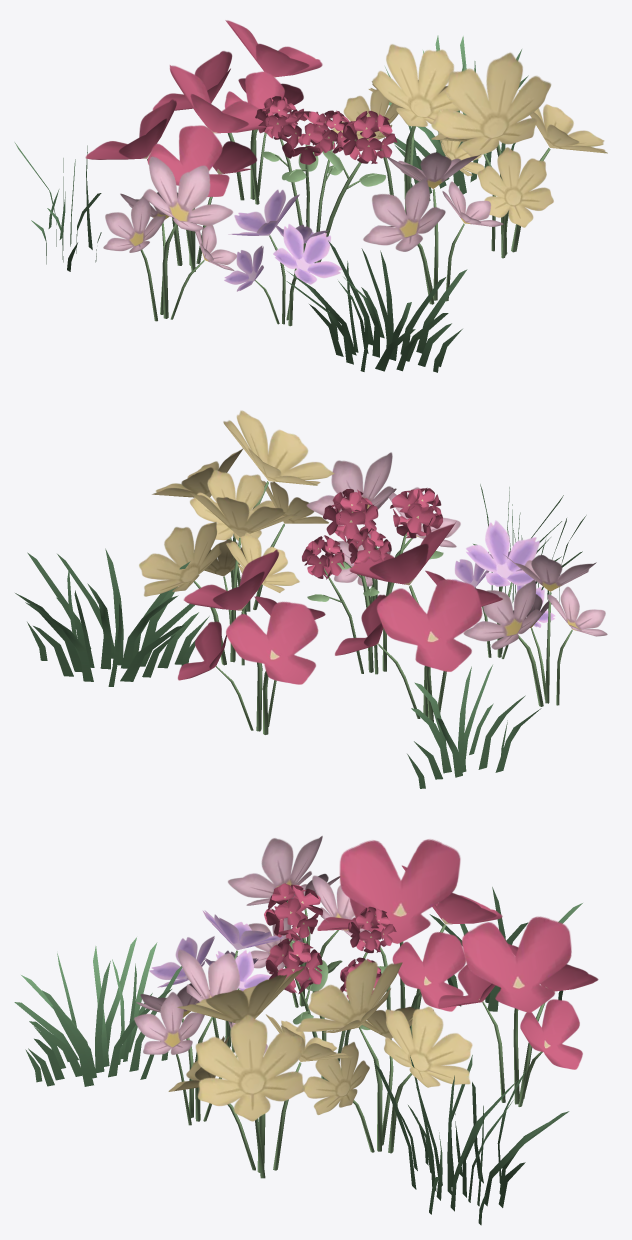
The model's file is qn_flowerpatch.glb.
The picture shows the model from 3 angles, top to bottom: view 1: azimuth 30°, elevation 25°; view 2: azimuth 150°, elevation 25°; view 3: azimuth 270°, elevation 25°; orthographic projection. The views are drawn at different scales.
Parts seen in each view (by area): view 1: Flower_1_Clump.001; view 2: Flower_1_Clump.001; view 3: Flower_1_Clump.001.
Part boxes in pixels (box(x1,y1,x2,y2)): Flower_1_Clump.001: box(14, 20, 607, 372); Flower_1_Clump.001: box(15, 410, 607, 788); Flower_1_Clump.001: box(14, 836, 598, 1225).
Bounding box in the file's own units: 1.98 × 0.7453 × 1.92.
2 materials, 2 textured.
